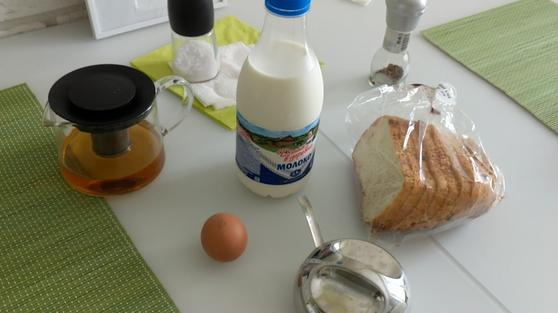egg: (203, 213, 252, 260)
milk: (235, 2, 327, 199)
white_bread: (347, 113, 499, 231)
